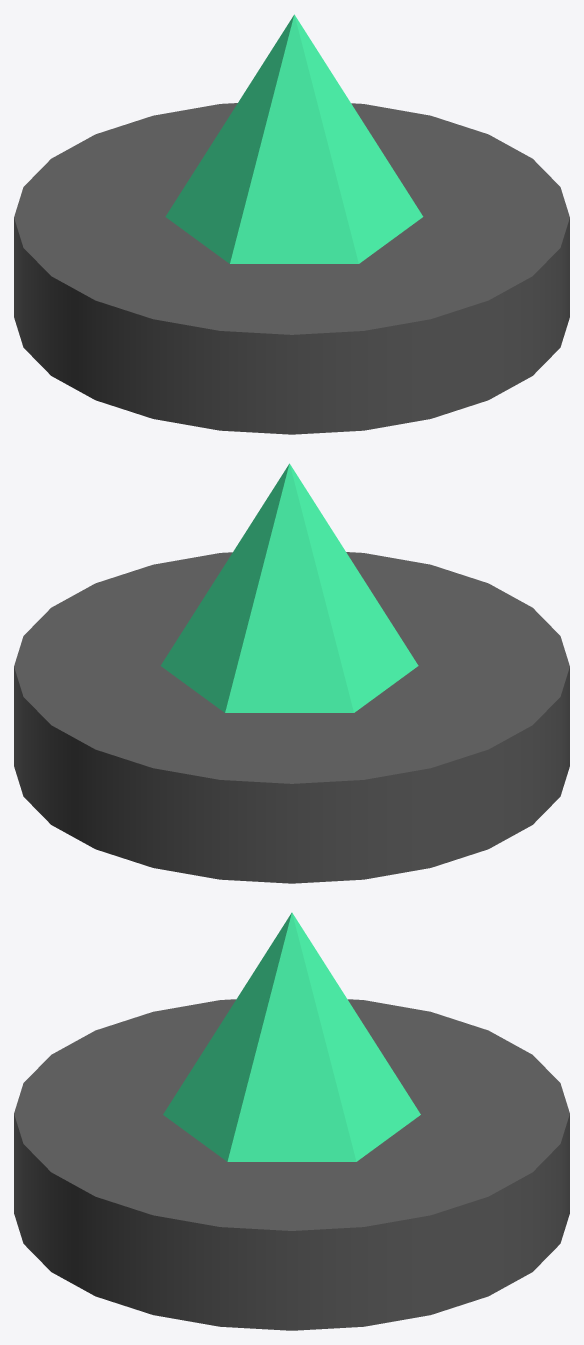
The model's file is gems_aquamarine_2.obj.
3 views of the same model, one above another, from view 1: azimuth 30°, elevation 25°; view 2: azimuth 150°, elevation 25°; view 3: azimuth 270°, elevation 25° (orthographic).
Parts seen in each view (by area): view 1: mergedBlocks; view 2: mergedBlocks; view 3: mergedBlocks.
Boxes of the visible parts, x1,y1,x2,y2 form: mergedBlocks: [14, 14, 569, 434]; mergedBlocks: [14, 463, 569, 883]; mergedBlocks: [14, 912, 569, 1330].
Size of the model in its own units: 1 by 0.6 by 1.
